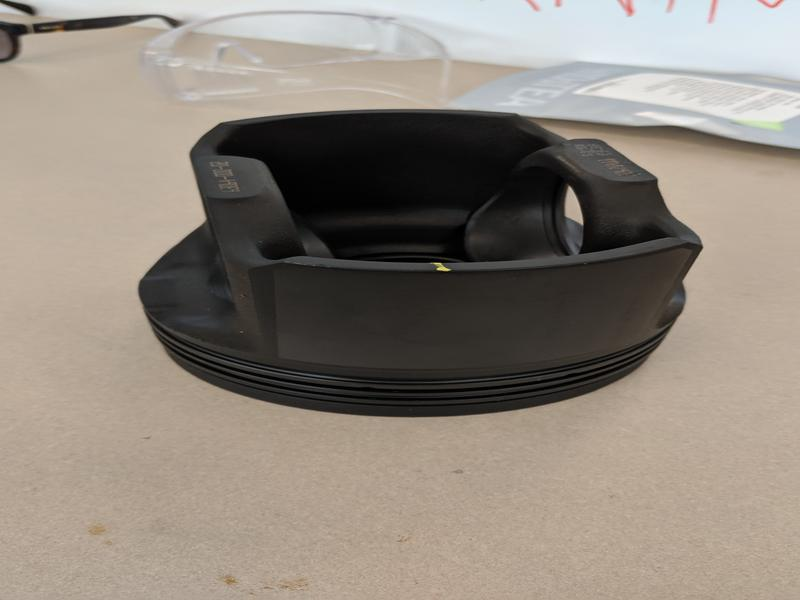piston: (135, 103, 708, 423)
